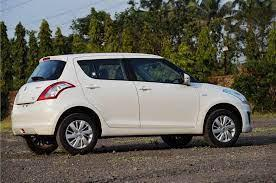Hatchback: (12, 52, 253, 155)
